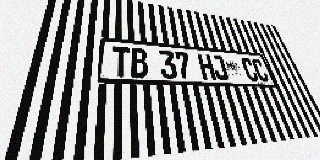3: (159, 50, 178, 79)
7: (174, 51, 193, 79)
B: (130, 48, 149, 78)
C: (240, 57, 260, 82), (250, 58, 270, 82)
H: (197, 53, 217, 80)
J: (210, 55, 230, 81)
T: (111, 46, 130, 77)
